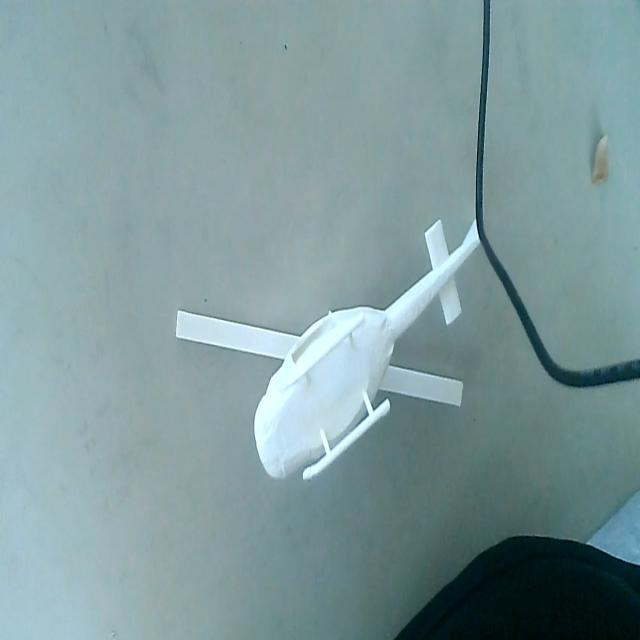Helicopter: (178, 220, 474, 485)
